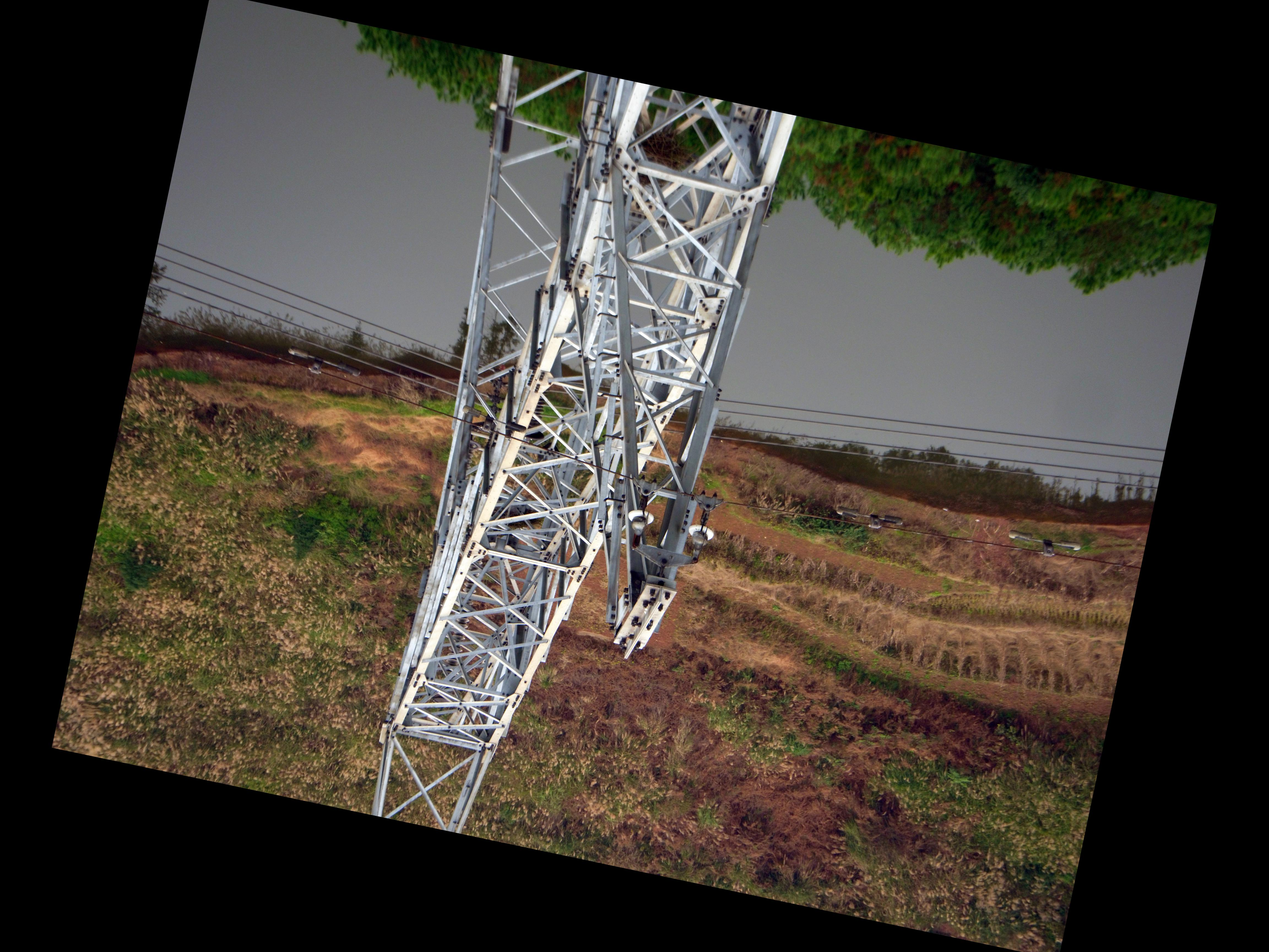damper: (282, 344, 366, 385), (1002, 526, 1085, 565), (457, 403, 531, 442), (832, 502, 906, 536)
